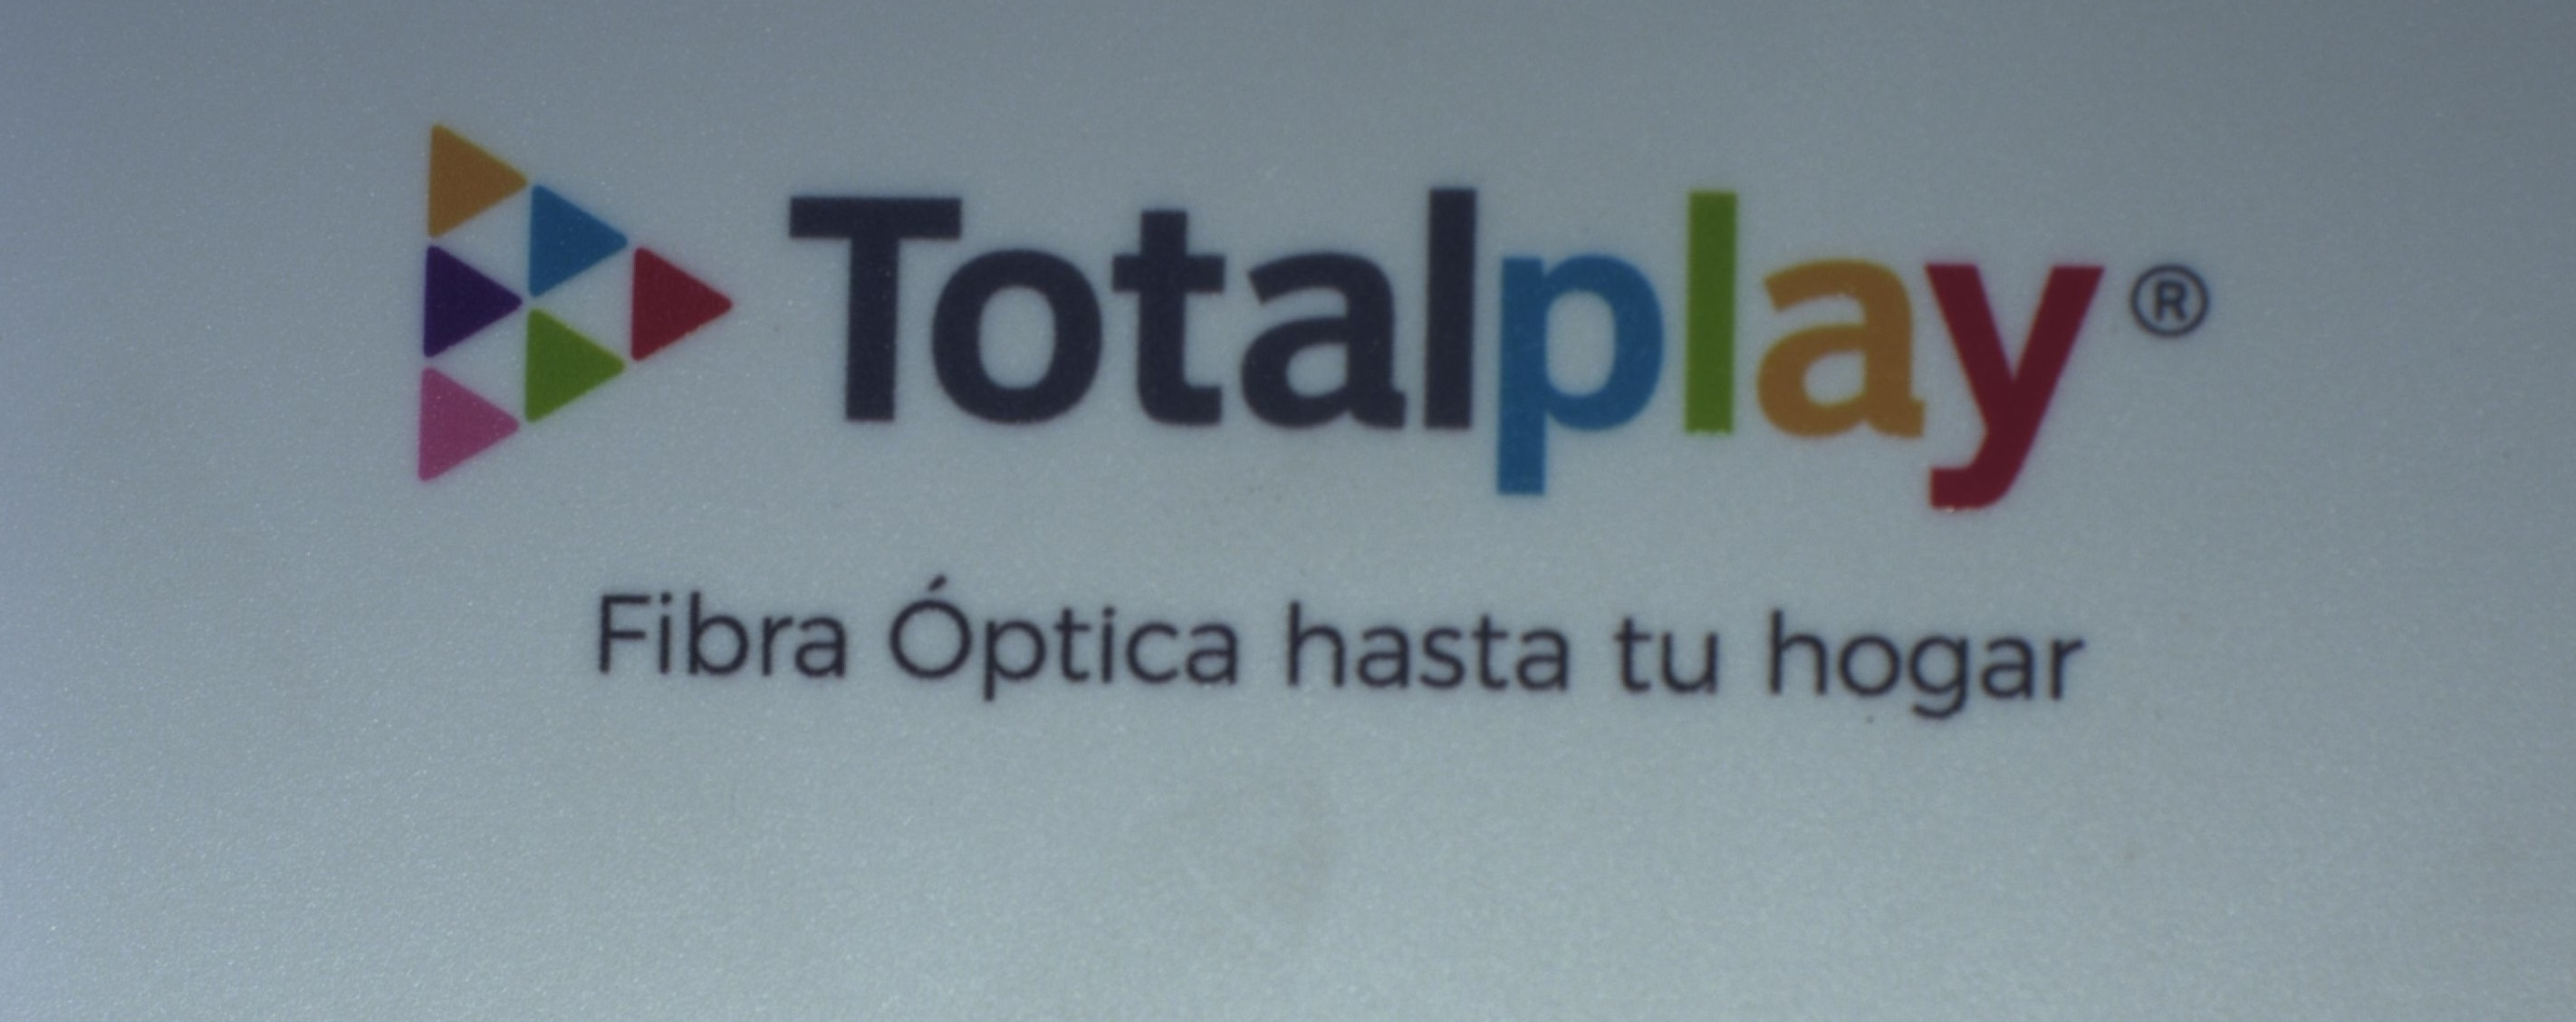BP_TotalPlay: (381, 107, 2228, 731)
